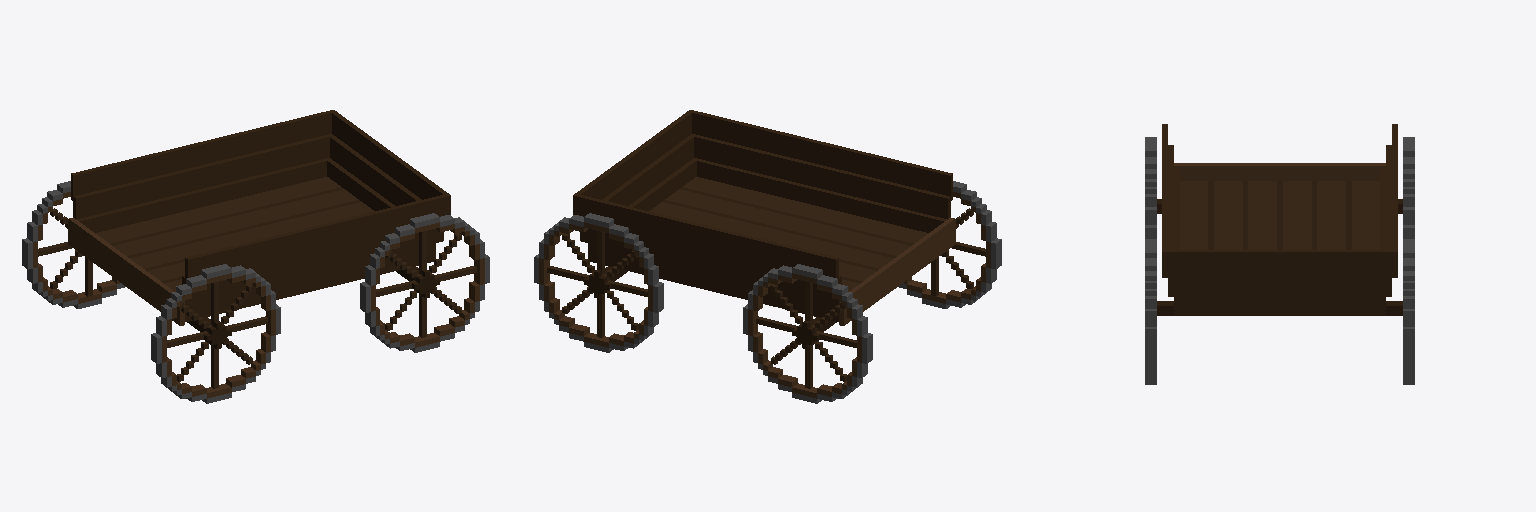
3 views of the same model, side by side, from view 1: azimuth 30°, elevation 25°; view 2: azimuth 150°, elevation 25°; view 3: azimuth 270°, elevation 25° (orthographic).
Visible parts, largest first — view 1: object 1; view 2: object 1; view 3: object 1.
Boxes of the visible parts, <box> form: object 1: <box>22,110,489,403</box>; object 1: <box>534,110,1001,403</box>; object 1: <box>1145,124,1414,384</box>.
Size of the model in its own units: 6.7 by 2.7 by 4.7.
1 materials, 1 textured.